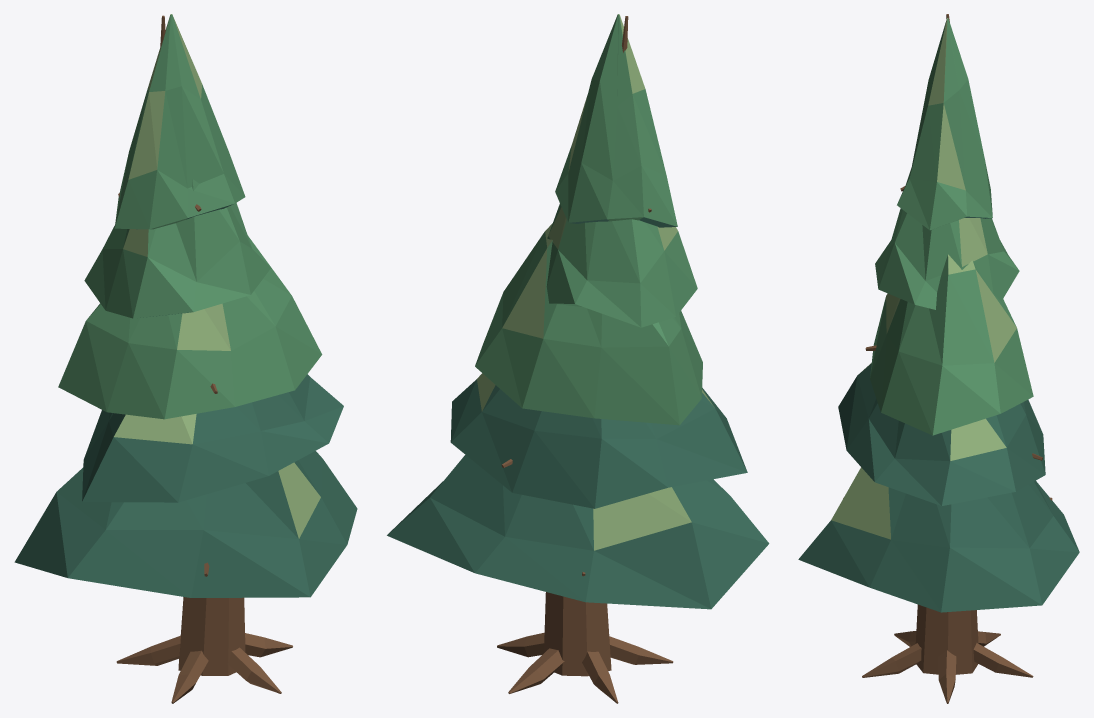
The model's file is tree_river_pine.glb.
The picture shows the model from 3 angles, left to right: view 1: azimuth 30°, elevation 25°; view 2: azimuth 150°, elevation 25°; view 3: azimuth 270°, elevation 25°; orthographic projection. The views are drawn at different scales.
Parts seen in each view (by area): view 1: tree_river_pine / mesh; view 2: tree_river_pine / mesh; view 3: tree_river_pine / mesh.
Boxes of the visible parts, box(x1,y1,x2,y2) form: tree_river_pine / mesh: box(14, 14, 357, 703); tree_river_pine / mesh: box(387, 14, 769, 703); tree_river_pine / mesh: box(798, 14, 1079, 703).
Bounding box in the file's own units: 6.26 × 12.81 × 5.18.
